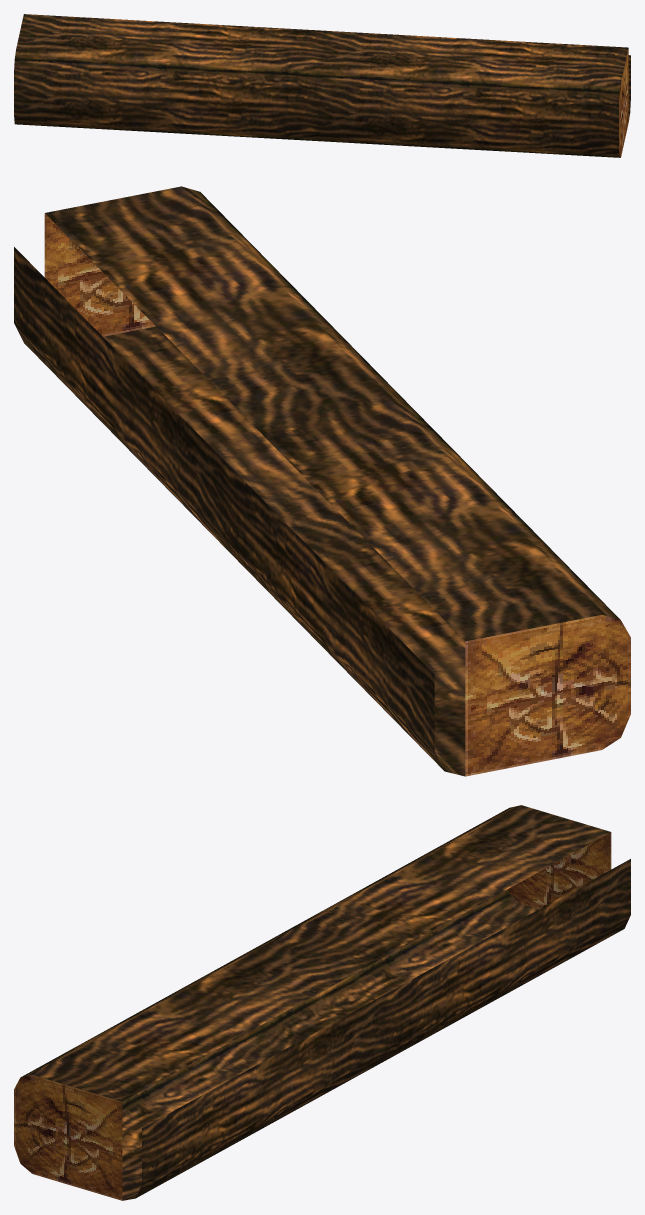
File: OVERHILL_A_01_LINE287.obj
The picture shows the model from 3 angles, top to bottom: view 1: azimuth 30°, elevation 25°; view 2: azimuth 150°, elevation 25°; view 3: azimuth 270°, elevation 25°; orthographic projection. The views are drawn at different scales.
Visible parts, largest first — view 1: Line287; view 2: Line287; view 3: Line287.
Boxes of the visible parts, box(x1,y1,x2,y2) form: Line287: box(14, 14, 630, 157); Line287: box(14, 186, 630, 776); Line287: box(14, 805, 630, 1200).
Size of the model in its own units: 313 by 46.88 by 265.
